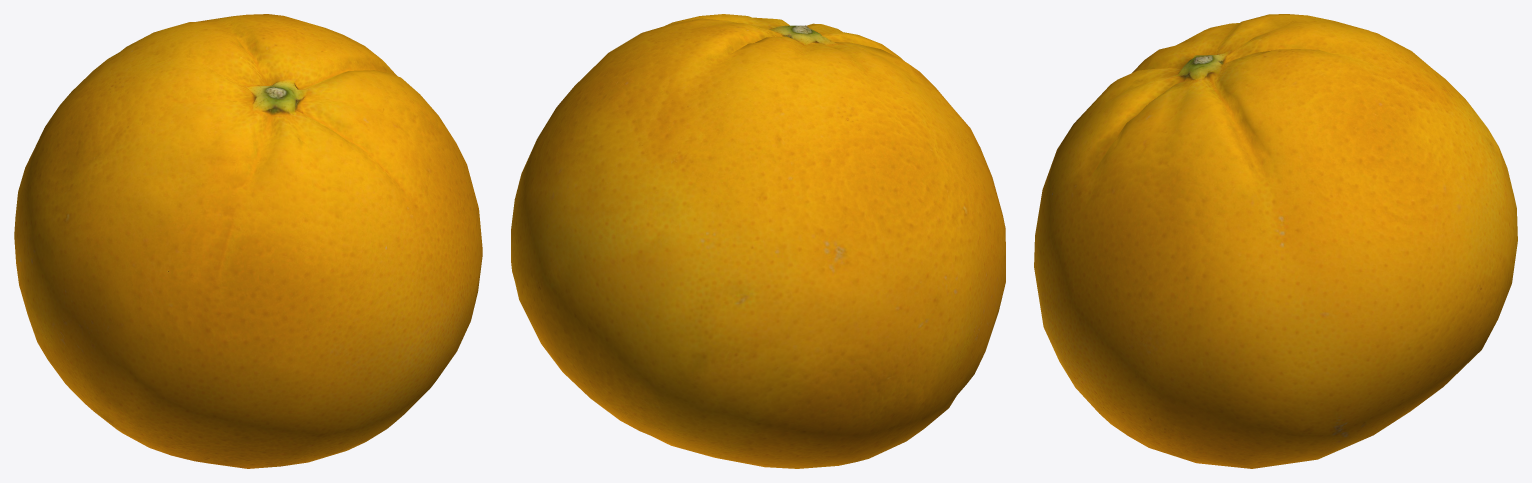
File: orange.glb
The picture shows the model from 3 angles, left to right: view 1: azimuth 30°, elevation 25°; view 2: azimuth 150°, elevation 25°; view 3: azimuth 270°, elevation 25°; orthographic projection. The views are drawn at different scales.
Visible parts, largest first — view 1: orange; view 2: orange; view 3: orange.
Part boxes in pixels (box(x1,y1,x2,y2)): orange: box(14, 14, 482, 468); orange: box(511, 14, 1005, 468); orange: box(1034, 14, 1517, 468).
Size of the model in its own units: 0.1019 by 0.094 by 0.1026.
Materials: 1 (1 with a texture image).
